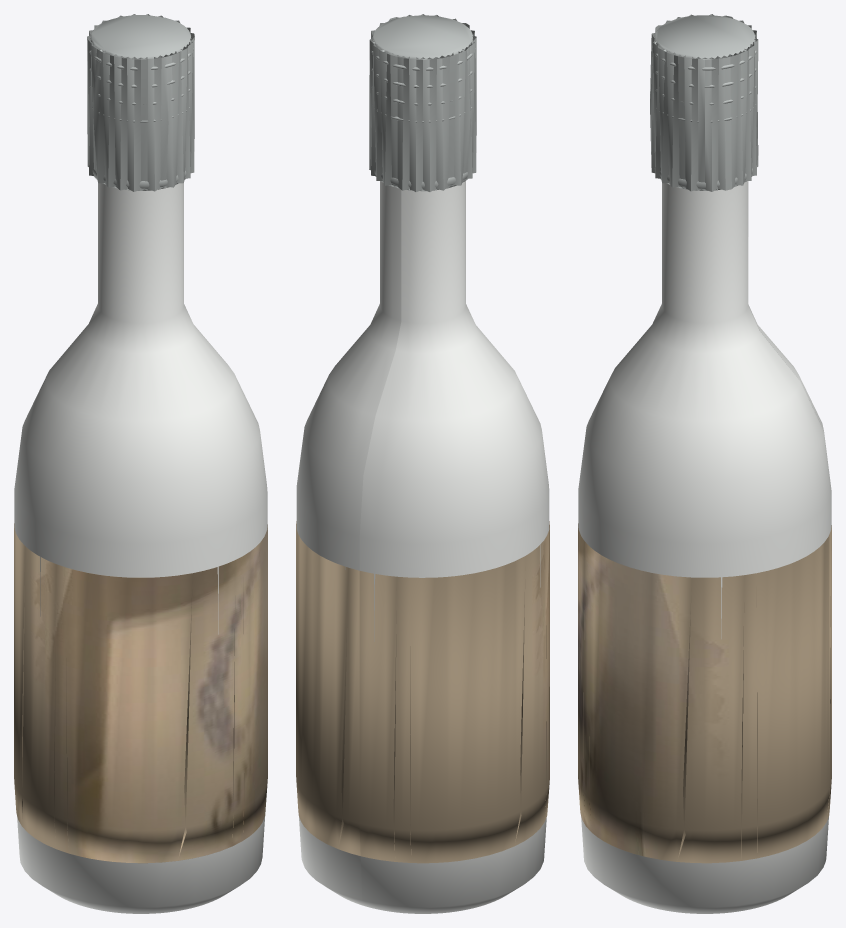
3 renders of one model, left to right at view 1: azimuth 30°, elevation 25°; view 2: azimuth 150°, elevation 25°; view 3: azimuth 270°, elevation 25°, orthographic.
Visible parts, largest first — view 1: thin shell with corrected shoulder, profile-conforming printed label, removable closure; view 2: thin shell with corrected shoulder, profile-conforming printed label, removable closure; view 3: thin shell with corrected shoulder, profile-conforming printed label, removable closure.
Part boxes in pixels (<box>): thin shell with corrected shoulder: <box>14,183,267,913</box>; profile-conforming printed label: <box>14,523,267,863</box>; removable closure: <box>87,14,194,191</box>; thin shell with corrected shoulder: <box>296,181,549,913</box>; profile-conforming printed label: <box>296,521,549,863</box>; removable closure: <box>369,14,476,191</box>; thin shell with corrected shoulder: <box>578,181,831,913</box>; profile-conforming printed label: <box>578,523,831,863</box>; removable closure: <box>650,14,758,191</box>.
Size of the model in its own units: 0.0793 by 0.2876 by 0.0793.
Materials: 4 (1 with a texture image).
